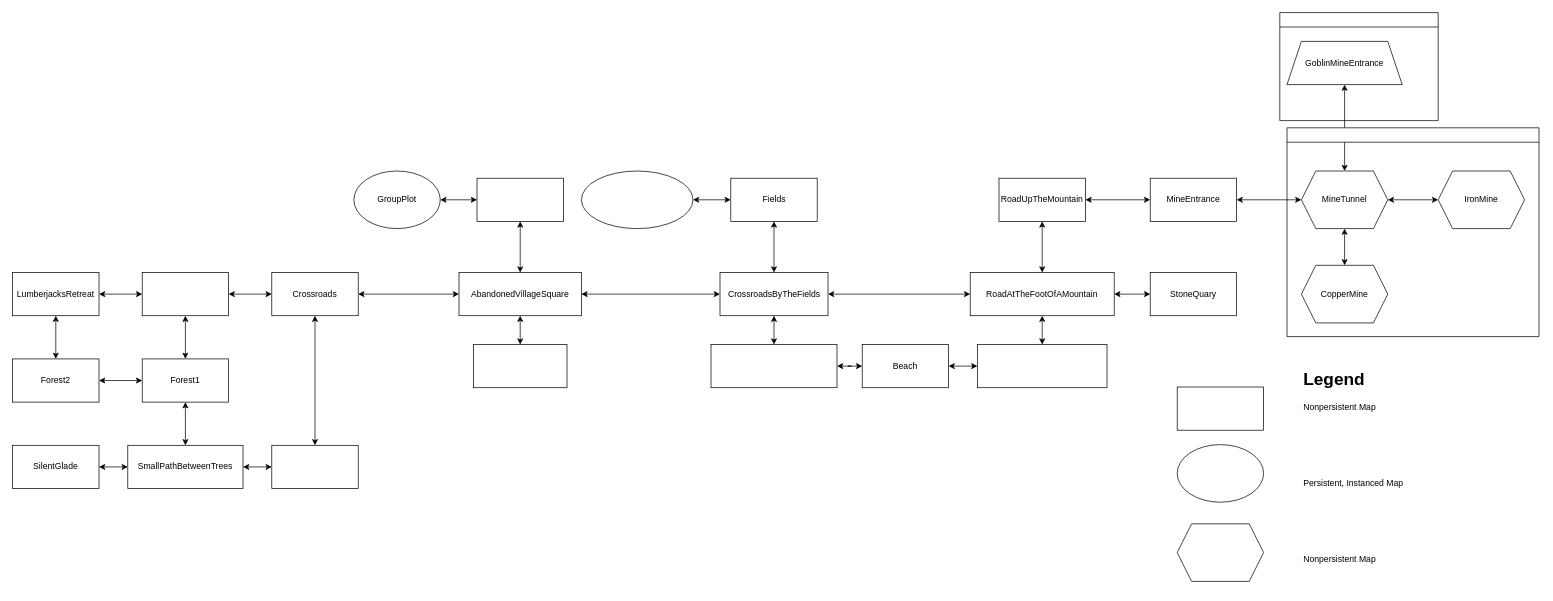
The diagram is 1553 pixels wide and 601 high, and some of its shapes have lost their labels. The centre of each missing label's shape, as x and y in pixels:
BeachAtTheFootOfAMountan: the point at 1042,366
BeachByTheCrossroads: the point at 773,366
PathByTheForest: the point at 185,294
PathWithBeach: the point at 314,467
PersistencePool: GoblinDungeon: the point at 1358,66
PersistencePool: Mine: the point at 1412,232
RoadWithPlots: the point at 519,199
SecludedPartInTheFields: the point at 637,199
VillageHouse1 - 5: the point at 520,366
